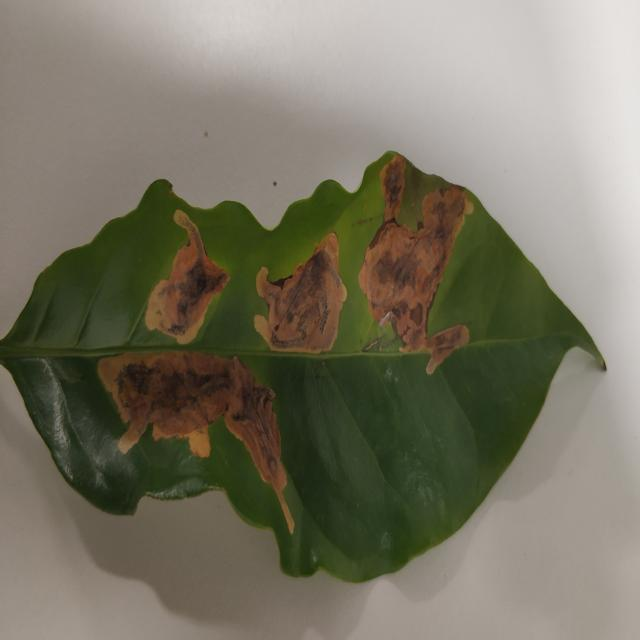Plaga-Minador: (0, 151, 604, 587)
